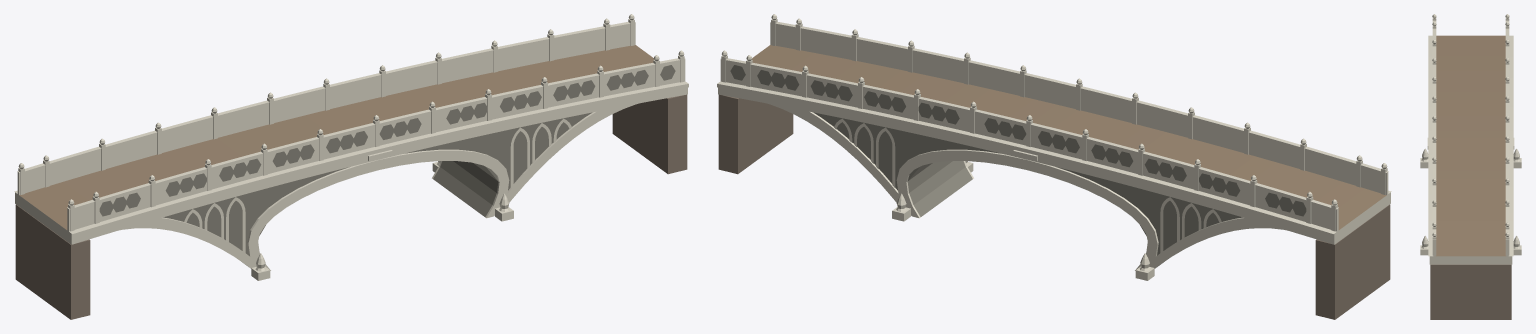
File: nyc-gothic-bridge.glb
The picture shows the model from 3 angles, left to right: view 1: azimuth 30°, elevation 25°; view 2: azimuth 150°, elevation 25°; view 3: azimuth 270°, elevation 25°; orthographic projection. The views are drawn at different scales.
Parts seen in each view (by area): view 1: Gothic Bridge; view 2: Gothic Bridge; view 3: Gothic Bridge.
Boxes of the visible parts, x1=… form: Gothic Bridge: x1=14, y1=14, x2=688, y2=319; Gothic Bridge: x1=717, y1=14, x2=1391, y2=319; Gothic Bridge: x1=1420, y1=14, x2=1521, y2=319.
Bounding box in the file's own units: 28.6 × 5.66 × 5.56.
